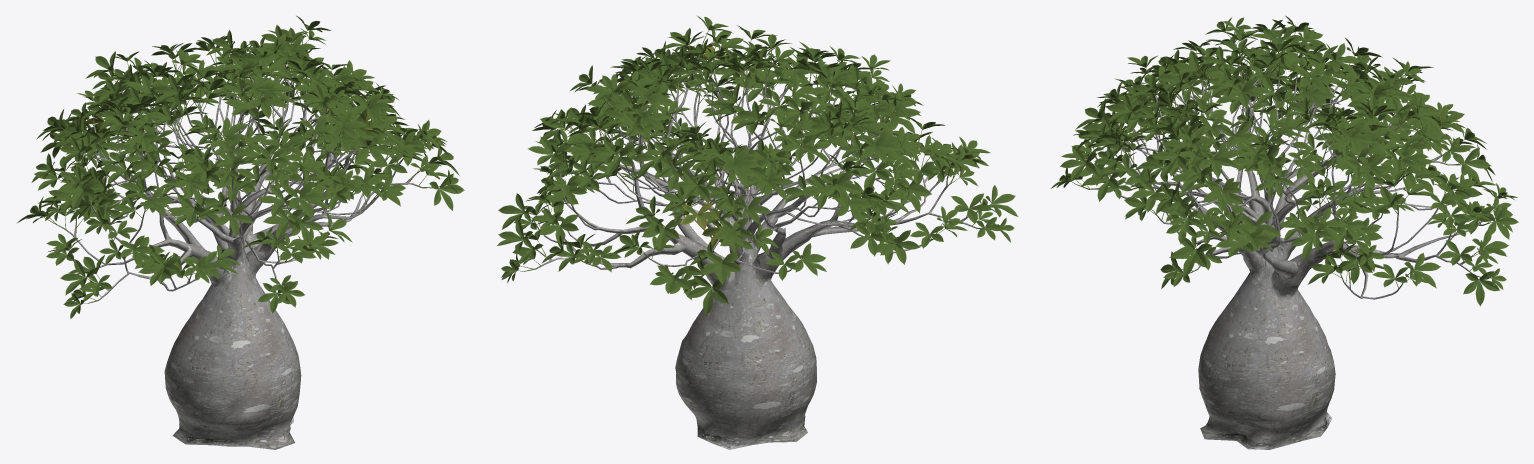
File: realistic_hd_african_continental_baobab_120.glb
The picture shows the model from 3 angles, left to right: view 1: azimuth 30°, elevation 25°; view 2: azimuth 150°, elevation 25°; view 3: azimuth 270°, elevation 25°; orthographic projection.
Visible parts, largest first — view 1: Adansonia_digitata_HD; view 2: Adansonia_digitata_HD; view 3: Adansonia_digitata_HD.
Boxes of the visible parts, box(x1,y1,x2,y2) form: Adansonia_digitata_HD: box(16, 16, 464, 449); Adansonia_digitata_HD: box(497, 16, 1018, 449); Adansonia_digitata_HD: box(1051, 15, 1518, 449).
Size of the model in its own units: 7 by 6 by 6.84.
7 materials, 7 textured.
